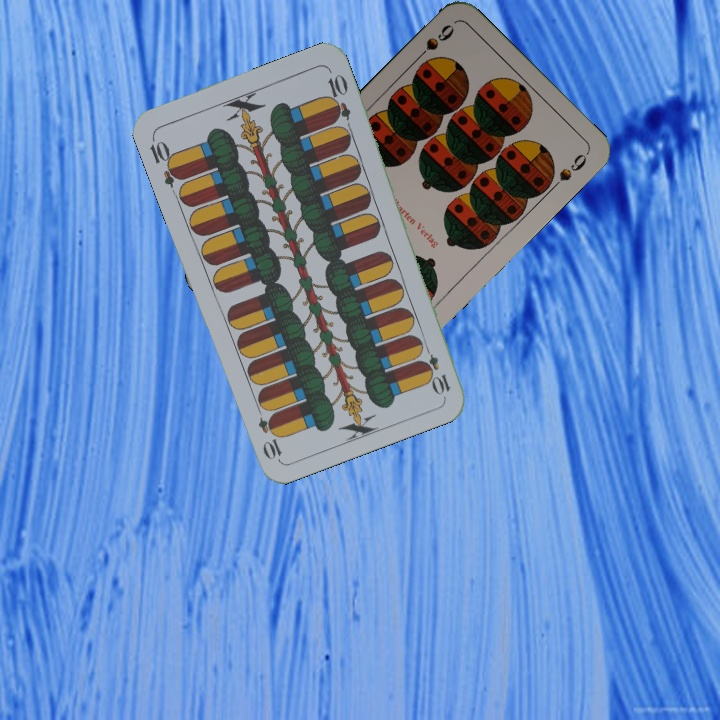E10: (145, 133, 185, 190), (418, 340, 453, 397)
S9: (410, 20, 457, 65)
